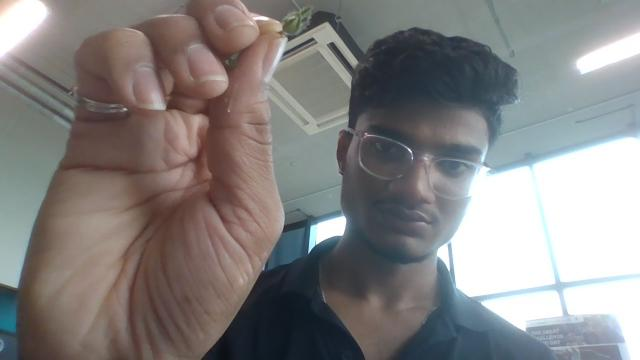Fruit Bud: (281, 5, 314, 36), (281, 8, 314, 37)
